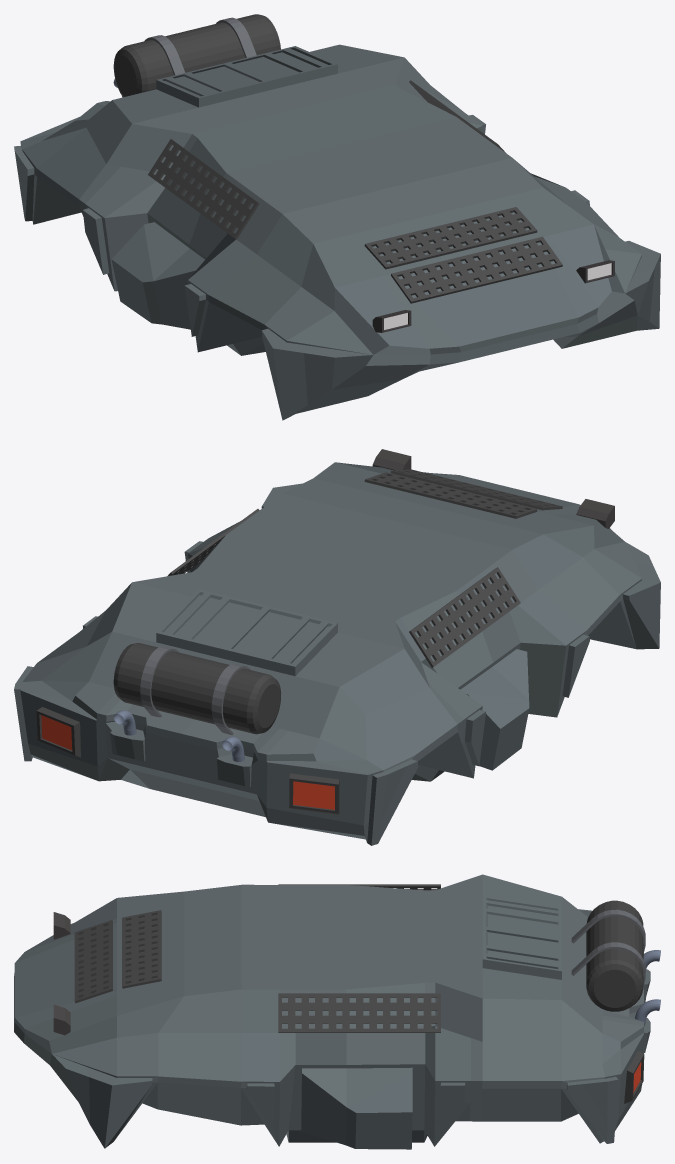
The model's file is Bvp.fbx.
3 renders of one model, top to bottom at view 1: azimuth 30°, elevation 25°; view 2: azimuth 150°, elevation 25°; view 3: azimuth 270°, elevation 25°, orthographic. The views are drawn at different scales.
Parts seen in each view (by area): view 1: BvpTrunk; view 2: BvpTrunk; view 3: BvpTrunk.
Part boxes in pixels (x1=…): BvpTrunk: x1=14, y1=14, x2=660, y2=420; BvpTrunk: x1=14, y1=449, x2=660, y2=845; BvpTrunk: x1=14, y1=874, x2=660, y2=1149.
Bounding box in the file's own units: 4.9 × 2.05 × 7.53.
